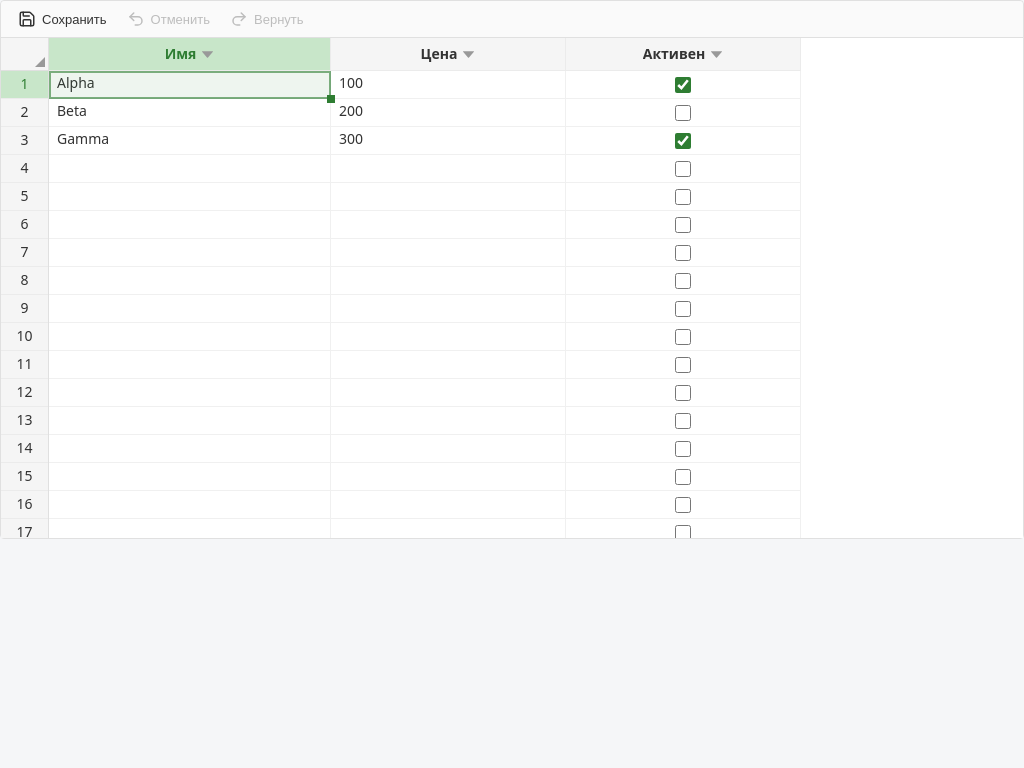
Test case: NativeTable: базовые сценарии › отменяет и повторяет изменение через тулбар (undo/redo)
Double-click the element showing "Alpha" at (190, 85), box [49,71,331,99]
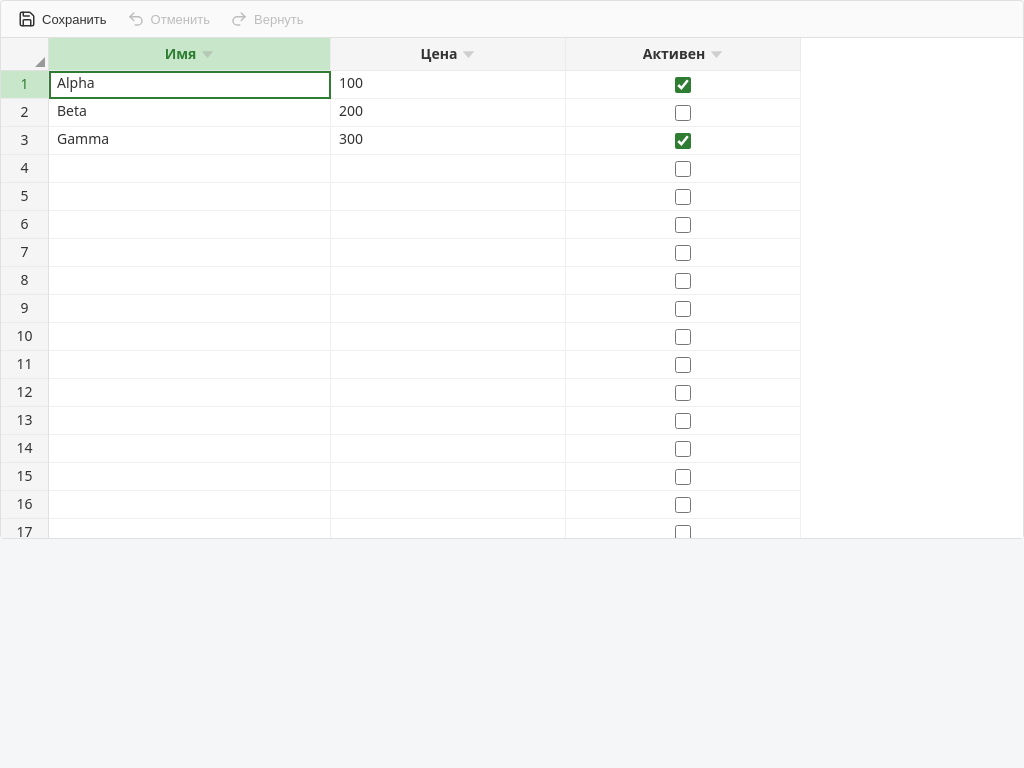
Replace the text in the text box with class "nt-editor--textarea" with "Changed" at (190, 85), box [49,71,331,99]
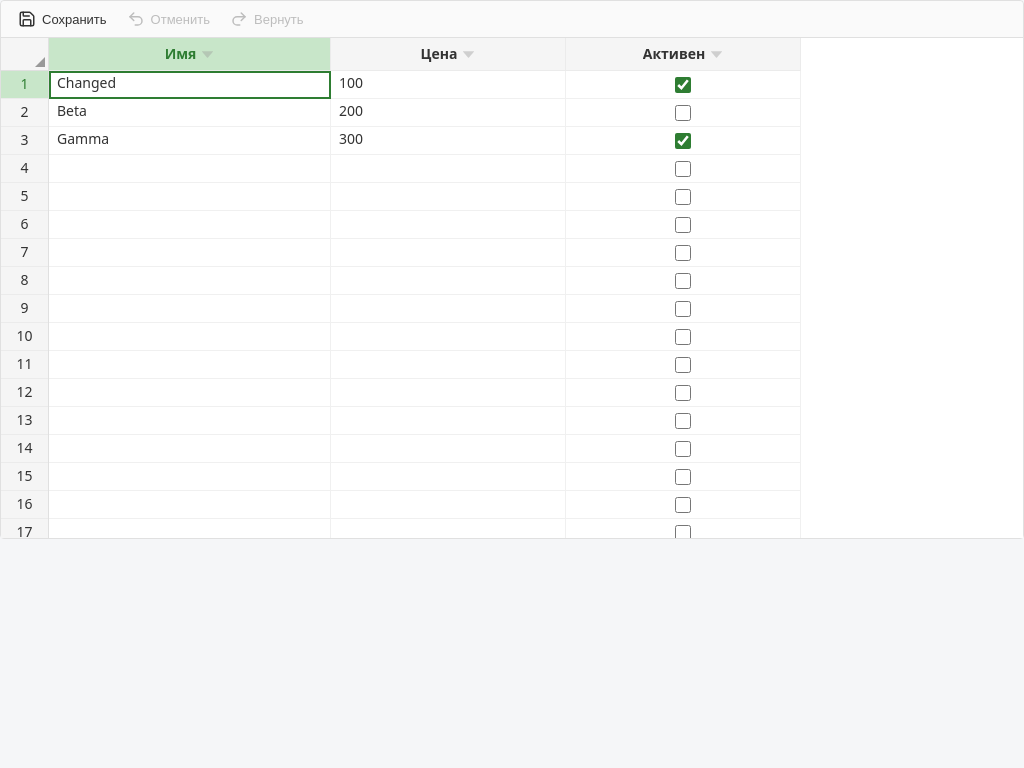
Press Enter in the text box with class "nt-editor--textarea", box [49,71,331,99]
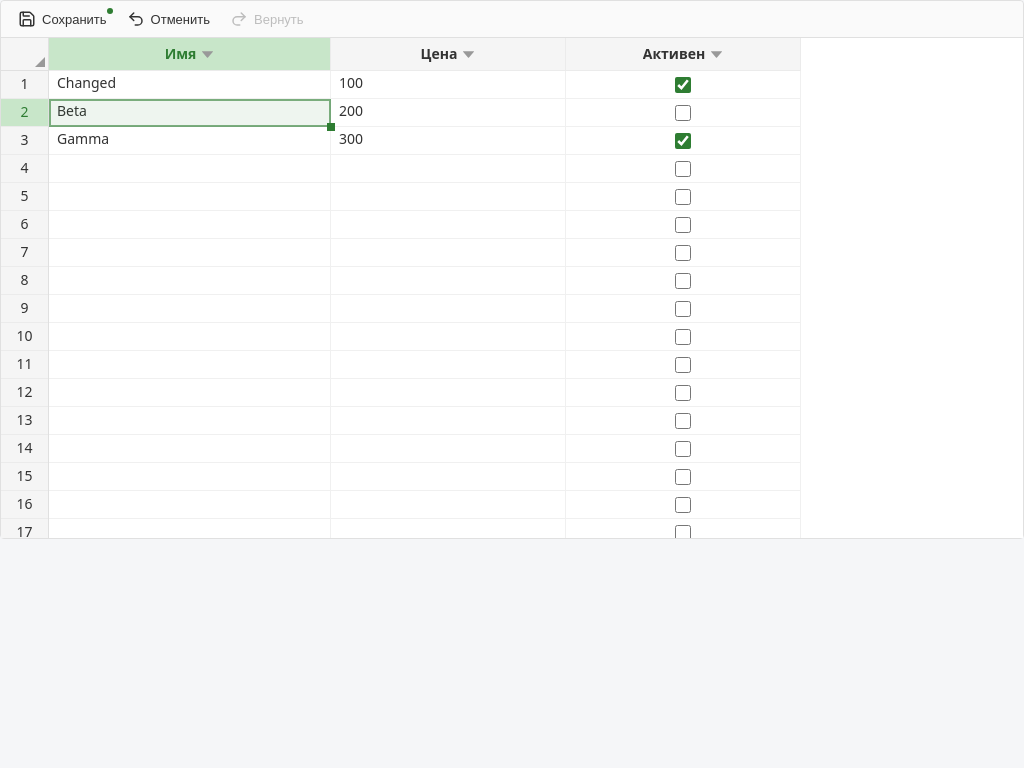
Expected: the text with class "nt-cell-text" reads "Changed", [57,73,116,92]
Click the button "Отменить" at (168, 19), box [118,5,219,33]
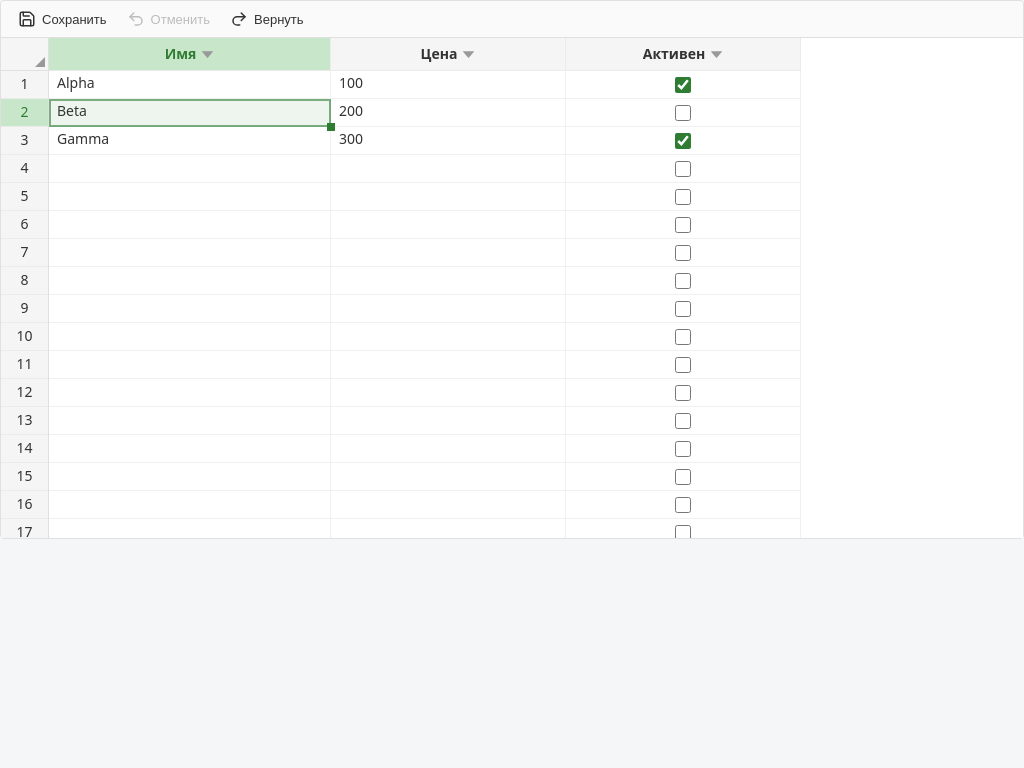
Expected: the text with class "nt-cell-text" reads "Alpha", [57,73,95,92]
Click the button "Вернуть" at (267, 19), box [221,5,312,33]
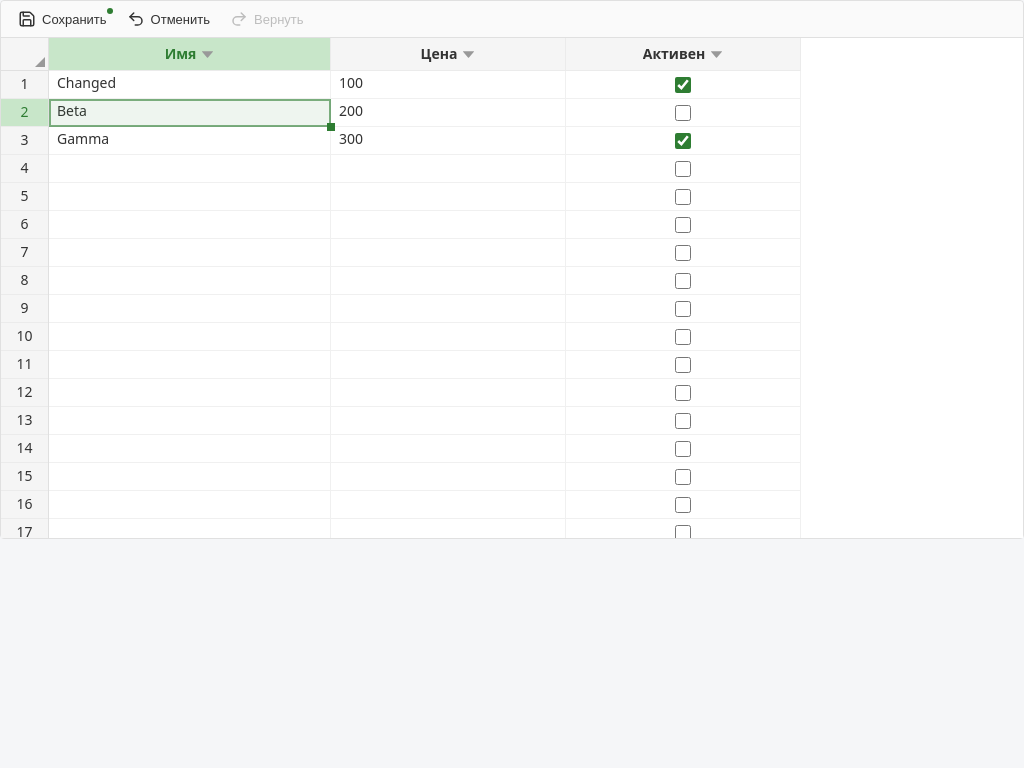
Expected: the text with class "nt-cell-text" reads "Changed", [57,73,116,92]
